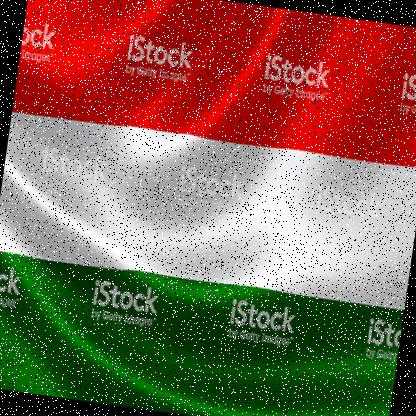hu: (1, 1, 416, 416)
